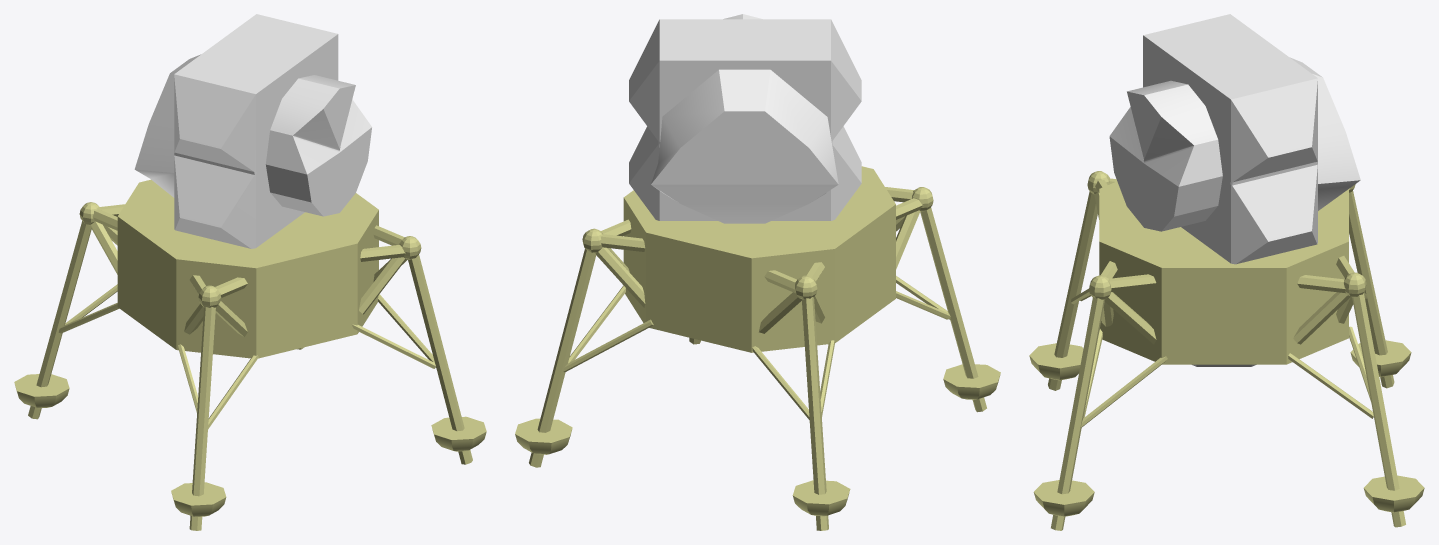
File: appollo7.glb
3 renders of one model, left to right at view 1: azimuth 30°, elevation 25°; view 2: azimuth 150°, elevation 25°; view 3: azimuth 270°, elevation 25°, orthographic. The views are drawn at different scales.
Visible parts, largest first — view 1: group1; view 2: group1; view 3: group1.
Part boxes in pixels (x1=…): group1: x1=14, y1=14, x2=486, y2=530; group1: x1=515, y1=14, x2=1000, y2=530; group1: x1=1029, y1=14, x2=1424, y2=530.
Size of the model in its own units: 0.0739 by 0.0847 by 0.0747.
